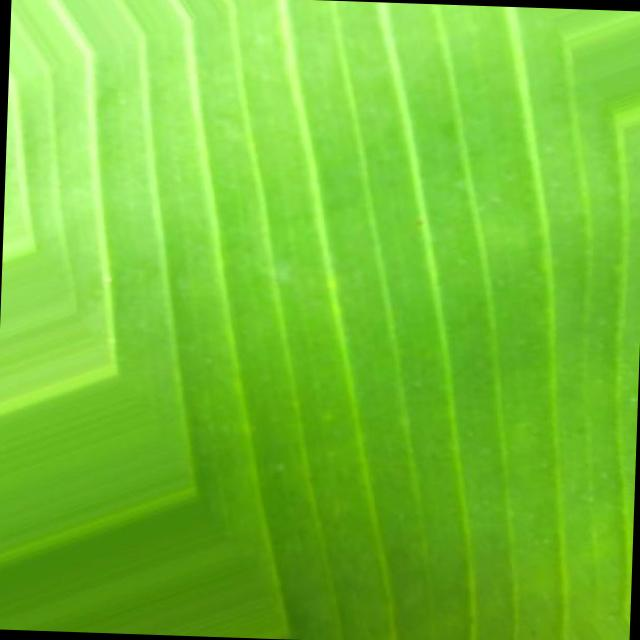Banana_Healthy: (213, 103, 586, 464)
